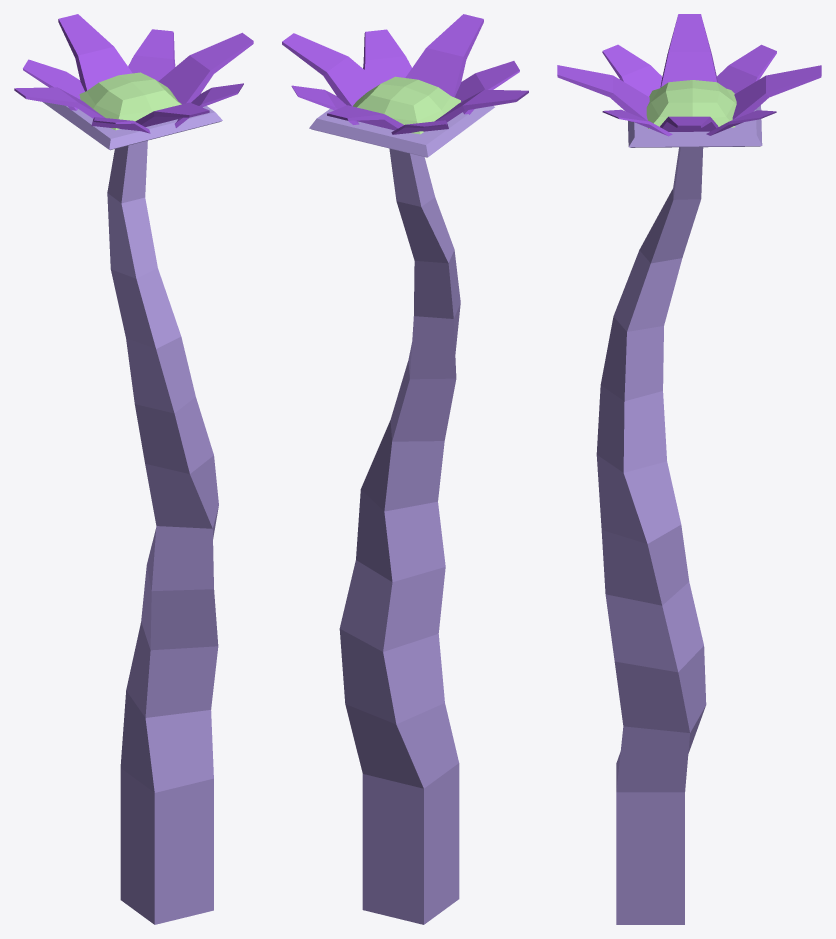
Rendered from Cave Plant 4.fbx.
The picture shows the model from 3 angles, left to right: view 1: azimuth 30°, elevation 25°; view 2: azimuth 150°, elevation 25°; view 3: azimuth 270°, elevation 25°; orthographic projection. The views are drawn at different scales.
Parts seen in each view (by area): view 1: Cube.006; view 2: Cube.006; view 3: Cube.006.
Boxes of the visible parts, <box> form: Cube.006: <box>14,14,253,924</box>; Cube.006: <box>282,14,528,924</box>; Cube.006: <box>557,14,821,924</box>.
Bounding box in the file's own units: 41.92 × 146 × 41.92.
